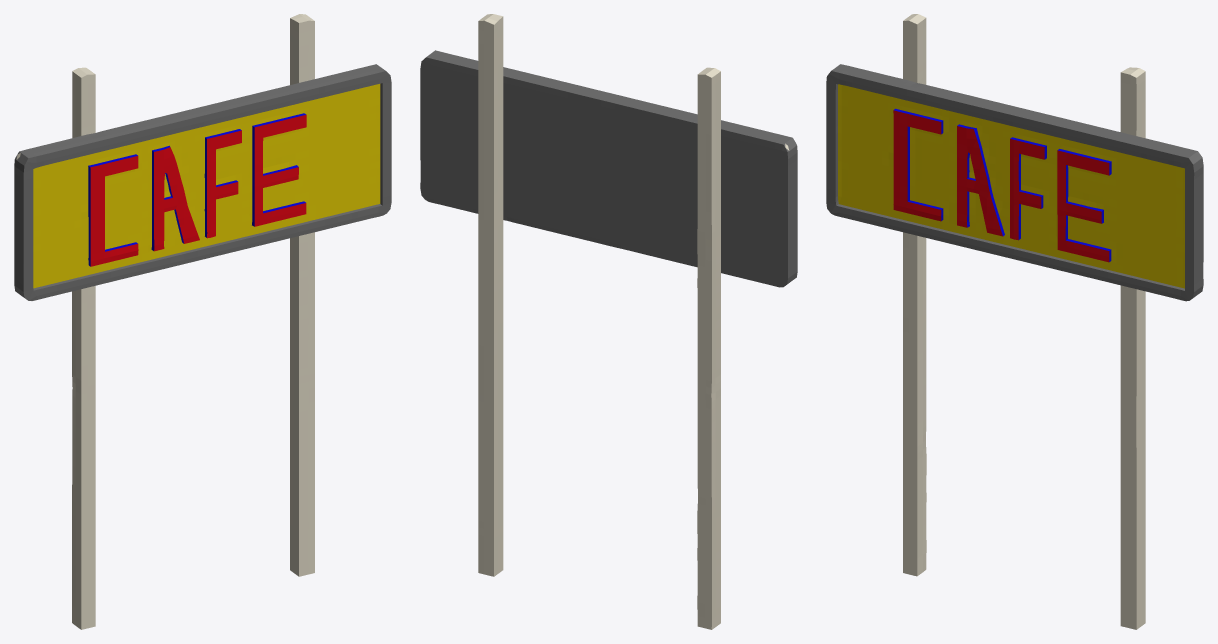
Rendered from PlacaCafe.fbx.
3 views of the same model, side by side, from view 1: azimuth 30°, elevation 25°; view 2: azimuth 150°, elevation 25°; view 3: azimuth 330°, elevation 25° (orthographic).
Parts seen in each view (by area): view 1: billboard; view 2: billboard; view 3: billboard.
Boxes of the visible parts, left/top/right/bottom form: billboard: left=14, top=14, right=391, bottom=629; billboard: left=420, top=14, right=797, bottom=629; billboard: left=826, top=14, right=1203, bottom=629.
Size of the model in its own units: 703 by 1011 by 62.44.
